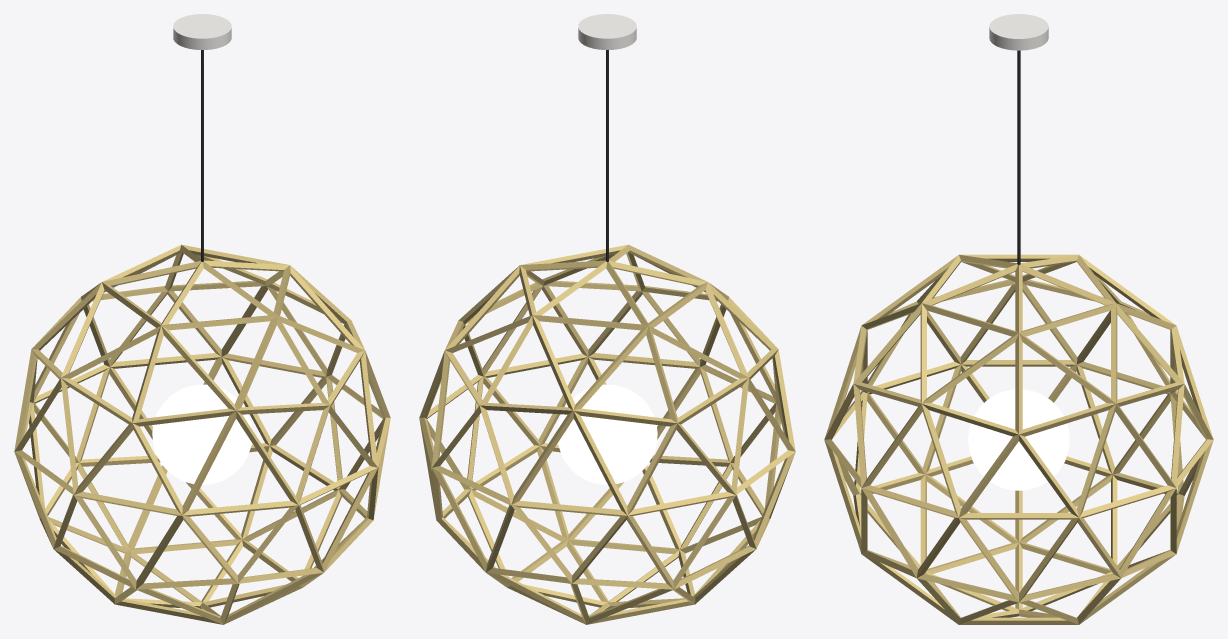
Rendered from hotel-lattice-pendant.glb.
3 views of the same model, side by side, from view 1: azimuth 30°, elevation 25°; view 2: azimuth 150°, elevation 25°; view 3: azimuth 270°, elevation 25° (orthographic).
Visible parts, largest first — view 1: lattice, glow, canopy, cable; view 2: lattice, glow, canopy, cable; view 3: lattice, glow, canopy, cable.
Boxes of the visible parts, <box> form: lattice: <box>14,244,390,624</box>; glow: <box>152,384,251,484</box>; canopy: <box>173,14,231,49</box>; cable: <box>201,50,203,261</box>; lattice: <box>419,244,795,624</box>; glow: <box>558,384,657,484</box>; canopy: <box>578,14,636,49</box>; cable: <box>606,50,608,261</box>; lattice: <box>824,254,1213,624</box>; glow: <box>968,389,1069,490</box>; canopy: <box>989,14,1048,50</box>; cable: <box>1017,50,1020,264</box>.
Size of the model in its own units: 0.8731 by 1.53 by 0.918.
